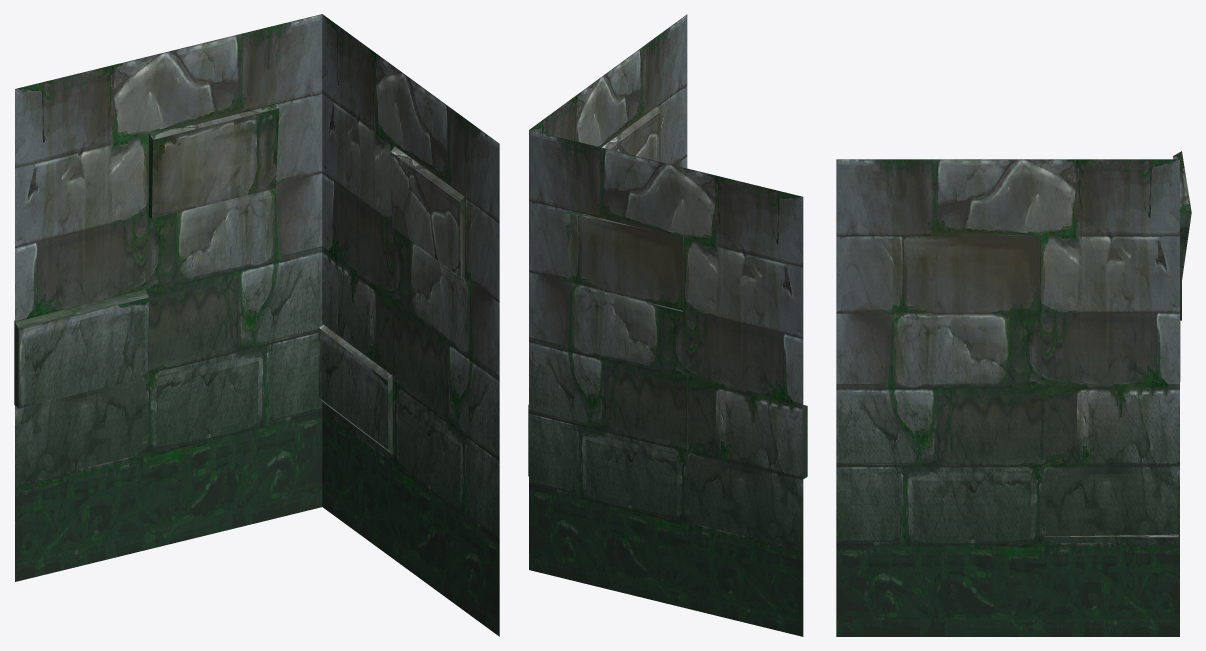
File: stemple_wall_concave_03.fbx
3 views of the same model, side by side, from view 1: azimuth 30°, elevation 25°; view 2: azimuth 150°, elevation 25°; view 3: azimuth 270°, elevation 25° (orthographic). The views are drawn at different scales.
Visible parts, largest first — view 1: obj1.039; view 2: obj1.039; view 3: obj1.039.
Part boxes in pixels (x1,y1,x2,y2): obj1.039: (14,14,499,636); obj1.039: (528,14,807,636); obj1.039: (836,151,1191,636).
Size of the model in its own units: 3.61 by 5.5 by 3.71.
